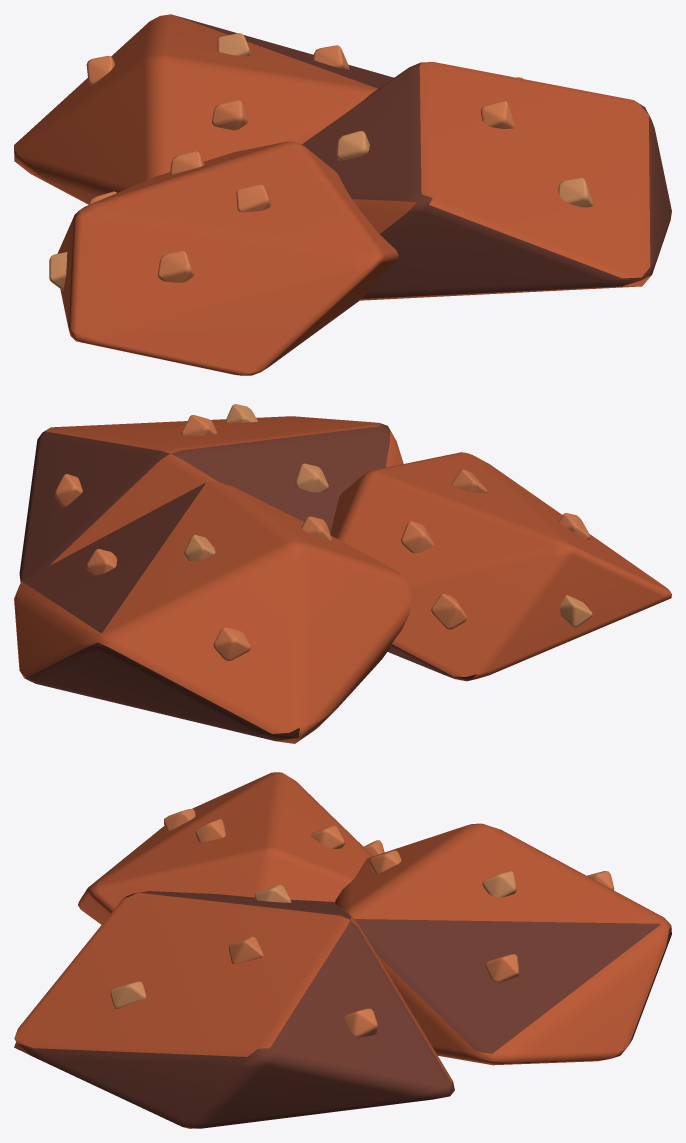
File: minerai_bauxite_2.glb
3 renders of one model, top to bottom at view 1: azimuth 30°, elevation 25°; view 2: azimuth 150°, elevation 25°; view 3: azimuth 270°, elevation 25°, orthographic. The views are drawn at different scales.
Parts seen in each view (by area): view 1: minerai_bauxite.004, minerai_brique_sombre.004, minerai_bauxite_clair.004, minerai_gres_clair.004; view 2: minerai_bauxite.004, minerai_brique_sombre.004, minerai_bauxite_clair.004, minerai_gres_clair.004; view 3: minerai_bauxite.004, minerai_brique_sombre.004, minerai_bauxite_clair.004, minerai_gres_clair.004.
Boxes of the visible parts, x1,y1,x2,y2 form: minerai_bauxite.004: (14,14,651,375); minerai_brique_sombre.004: (14,15,671,298); minerai_bauxite_clair.004: (86,45,522,282); minerai_gres_clair.004: (49,33,593,290); minerai_bauxite.004: (14,416,671,743); minerai_brique_sombre.004: (19,423,477,740); minerai_bauxite_clair.004: (54,415,590,660); minerai_gres_clair.004: (184,404,592,627); minerai_bauxite.004: (14,772,670,1128); minerai_brique_sombre.004: (17,891,671,1128); minerai_bauxite_clair.004: (164,809,614,1037); minerai_gres_clair.004: (110,871,516,1008).
Bounding box in the file's own units: 0.531 × 0.1169 × 0.5088.
